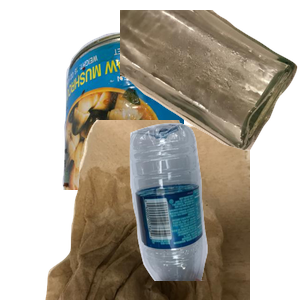glass: (120, 10, 300, 153)
metal: (60, 28, 300, 208)
plastic: (127, 120, 300, 300)
trash: (43, 120, 283, 300)
